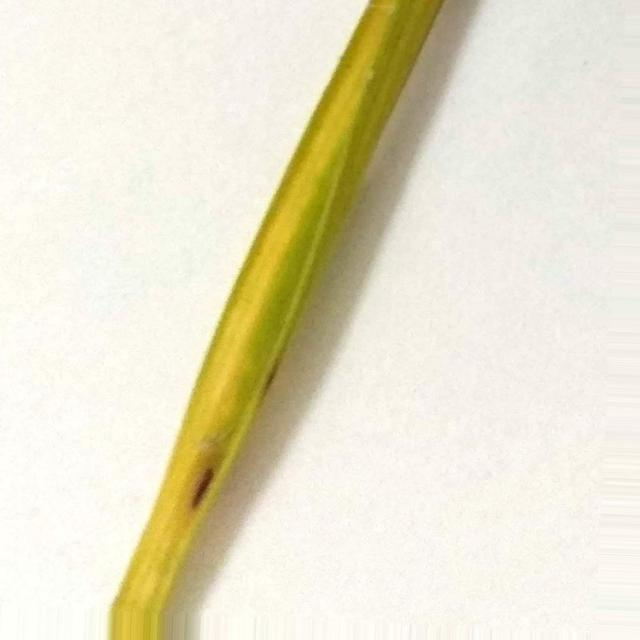Brown_Spot: (260, 354, 281, 404), (191, 468, 215, 509)
